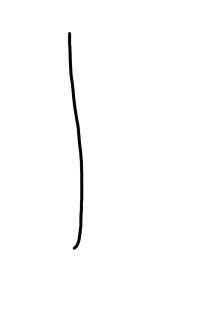Line: (63, 29, 90, 252)
